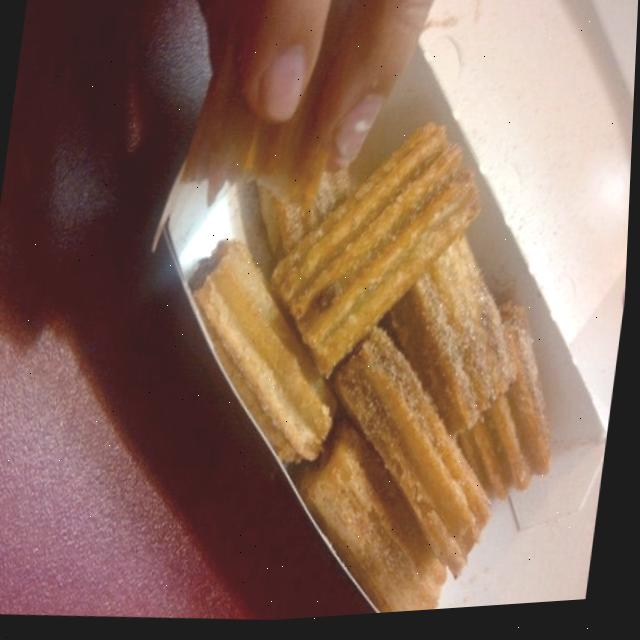炸货点心: (61, 0, 636, 632)
